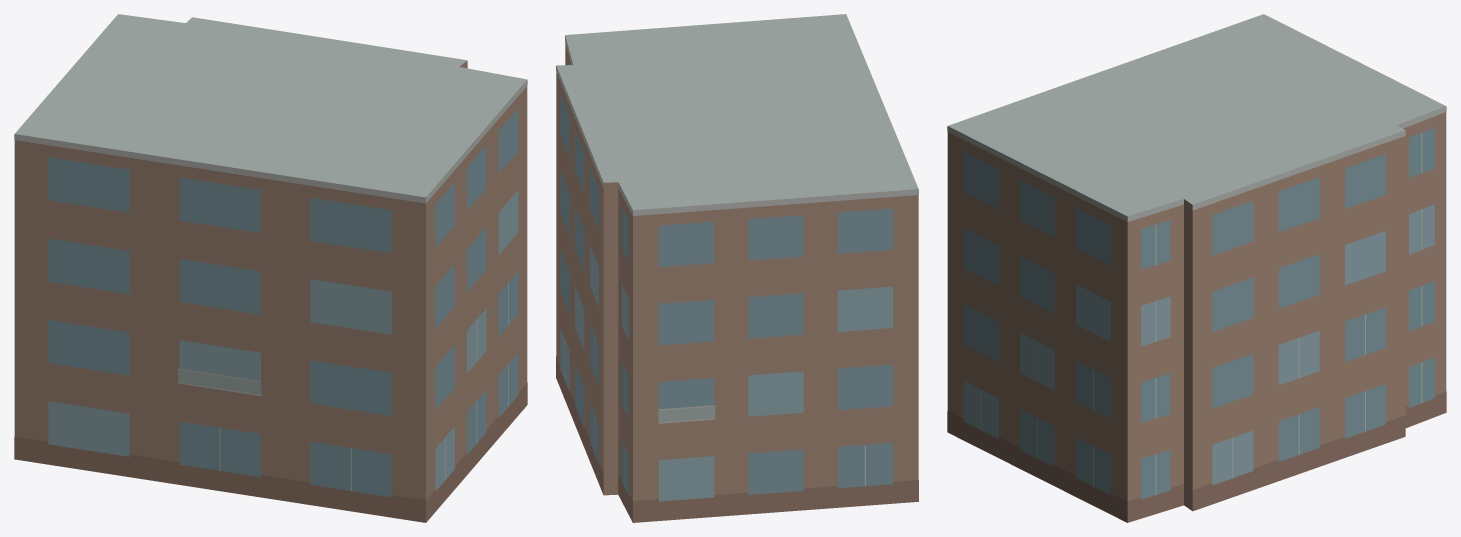
Rendered from survey-upis-32831050.glb.
The picture shows the model from 3 angles, left to right: view 1: azimuth 30°, elevation 25°; view 2: azimuth 150°, elevation 25°; view 3: azimuth 270°, elevation 25°; orthographic projection. The views are drawn at different scales.
Parts seen in each view (by area): view 1: survey-upis-32831050.tmp; view 2: survey-upis-32831050.tmp; view 3: survey-upis-32831050.tmp.
Part boxes in pixels (x1,y1,x2,y2): survey-upis-32831050.tmp: (14,14,527,522); survey-upis-32831050.tmp: (556,14,918,522); survey-upis-32831050.tmp: (947,14,1446,522).
Size of the model in its own units: 18.68 by 13.18 by 19.46.
